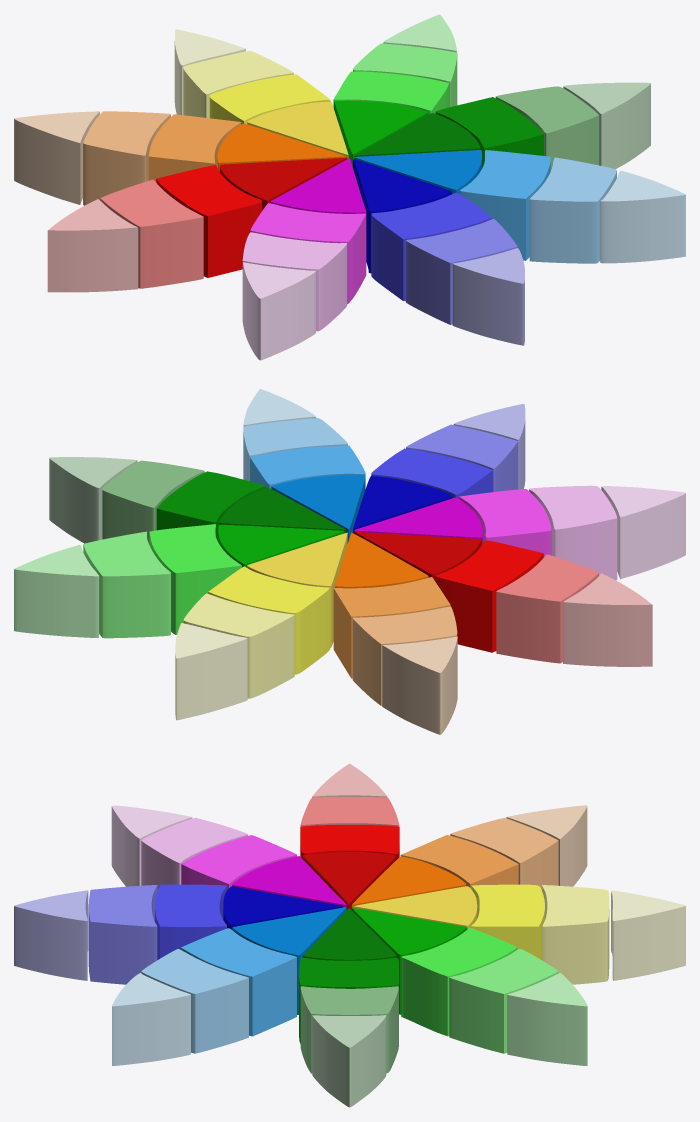
The model's file is wheelOfEmotions.glb.
3 views of the same model, one above another, from view 1: azimuth 30°, elevation 25°; view 2: azimuth 150°, elevation 25°; view 3: azimuth 270°, elevation 25° (orthographic). The views are drawn at different scales.
Visible parts, largest first — view 1: Cube021, Cube016, Cube022, Cube018, Cube023, Cube025, Cube032, Cube001, Cube030, Cube002, Cube029, Cube013 (+20 smaller); view 2: Cube014, Cube021, Cube022, Cube017, Cube001, Cube025, Cube008, Cube023, Cube006, Cube024, Cube005, Cube012 (+20 smaller); view 3: Cube030, Cube017, Cube006, Cube014, Cube018, Cube016, Cube020, Cube032, Cube012, Cube008, Cube013, Cube005 (+20 smaller).
Boxes of the visible parts, left/top/right/bottom form: Cube021: left=47, top=199, right=138, bottom=292; Cube016: left=529, top=157, right=616, bottom=263; Cube022: left=100, top=179, right=203, bottom=288; Cube018: left=600, top=170, right=685, bottom=263; Cube023: left=243, top=262, right=315, bottom=360; Cube025: left=156, top=165, right=262, bottom=277; Cube032: left=452, top=248, right=524, bottom=345; Cube001: left=14, top=111, right=99, bottom=204; Cube030: left=405, top=219, right=517, bottom=324; Cube002: left=83, top=111, right=170, bottom=205; Cube029: left=371, top=193, right=491, bottom=300; Cube013: left=459, top=150, right=550, bottom=260; Cube014: left=83, top=531, right=170, bottom=638; Cube021: left=563, top=573, right=652, bottom=666; Cube022: left=496, top=554, right=598, bottom=663; Cube017: left=14, top=545, right=98, bottom=637; Cube001: left=382, top=636, right=457, bottom=734; Cube025: left=434, top=540, right=543, bottom=652; Cube008: left=175, top=623, right=247, bottom=720; Cube023: left=601, top=486, right=685, bottom=579; Cube006: left=183, top=593, right=294, bottom=698; Cube024: left=529, top=485, right=617, bottom=580; Cube005: left=208, top=566, right=330, bottom=674; Cube012: left=149, top=524, right=241, bottom=634; Cube030: left=88, top=885, right=157, bottom=984; Cube017: left=507, top=973, right=587, bottom=1065; Cube006: left=542, top=885, right=609, bottom=984; Cube014: left=449, top=949, right=558, bottom=1053; Cube018: left=112, top=973, right=190, bottom=1065; Cube016: left=141, top=949, right=248, bottom=1053; Cube020: left=312, top=1015, right=386, bottom=1107; Cube032: left=14, top=890, right=88, bottom=980; Cube012: left=401, top=927, right=517, bottom=1036; Cube008: left=611, top=890, right=685, bottom=980; Cube013: left=181, top=928, right=296, bottom=1036; Cube005: left=470, top=884, right=544, bottom=959.
Size of the model in its own units: 0.5828 by 0.0571 by 0.5821.
